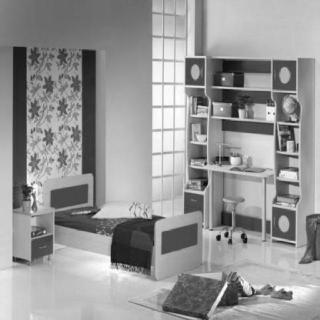other: (22, 54, 90, 166), (175, 267, 237, 311), (160, 223, 201, 253), (302, 211, 320, 263), (271, 57, 297, 91), (49, 188, 85, 204), (31, 236, 57, 258), (184, 58, 204, 86)
